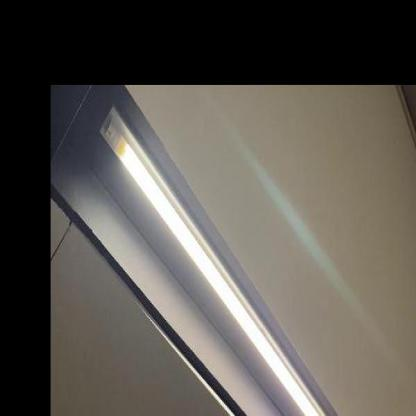light_on: (95, 100, 352, 414)
